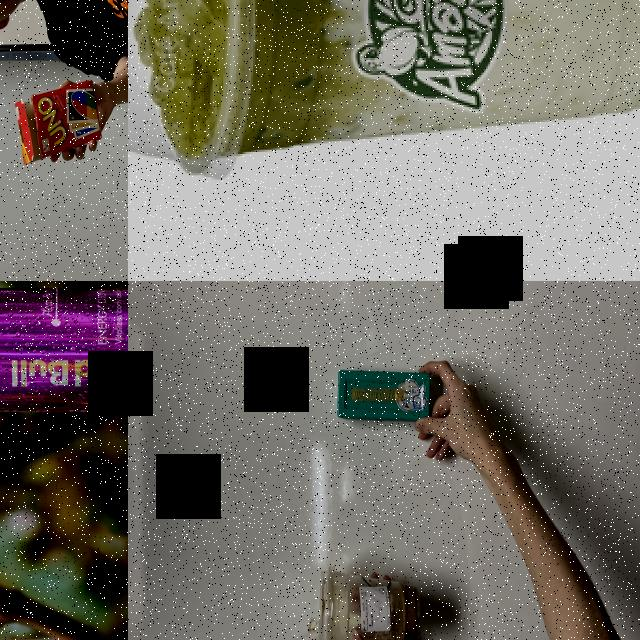can: (0, 281, 128, 414)
cup: (128, 0, 640, 180), (315, 565, 423, 640)
